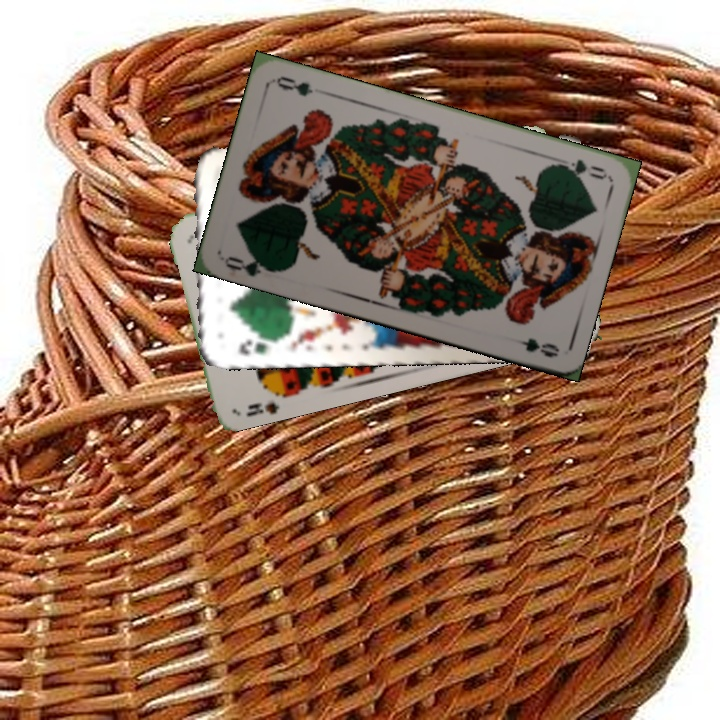GK: (233, 333, 279, 359)
GO: (221, 250, 281, 279), (551, 155, 610, 182)
S9: (242, 383, 293, 419)
